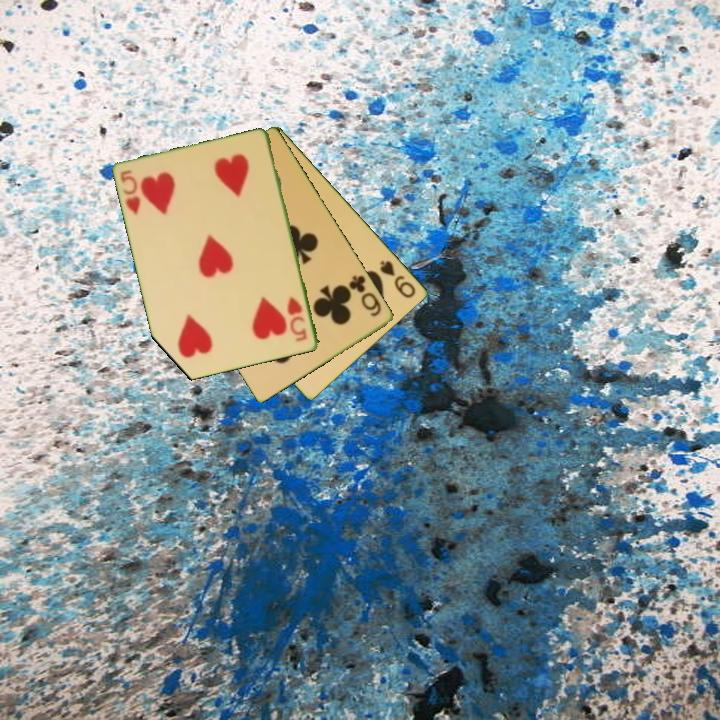5h: (117, 166, 144, 219), (284, 293, 310, 345)
6c: (346, 272, 385, 320)
9s: (377, 257, 419, 301)
